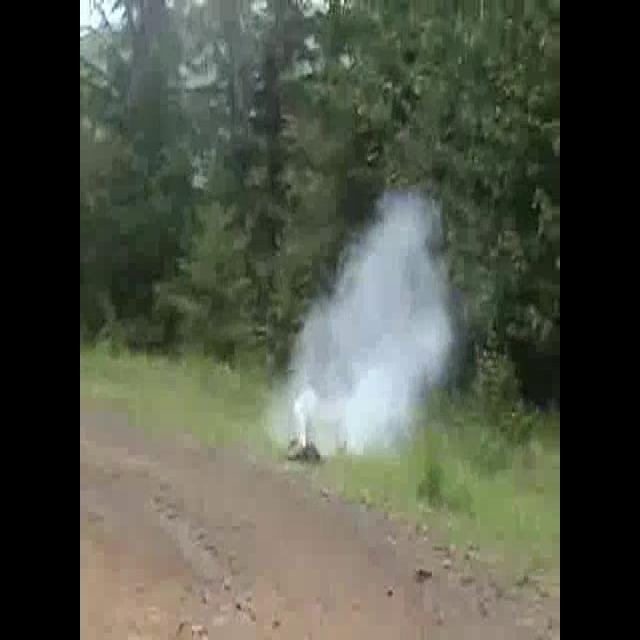Smoke: (264, 176, 464, 472)
